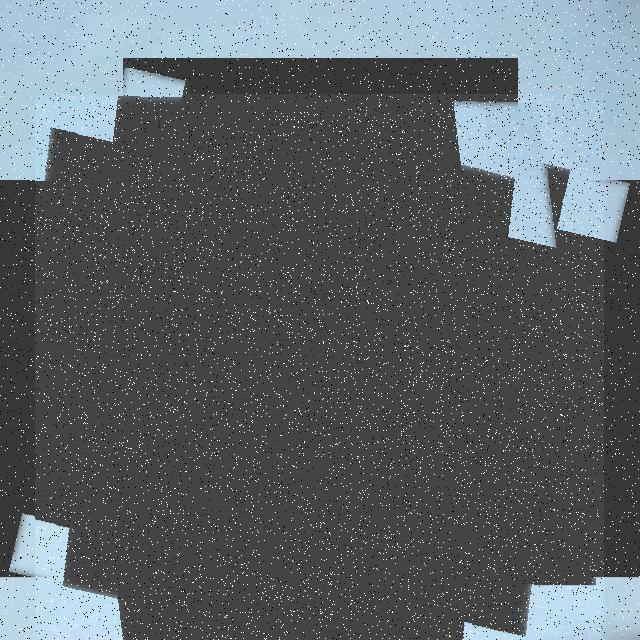dua ribu rupiah: (35, 94, 604, 640)
